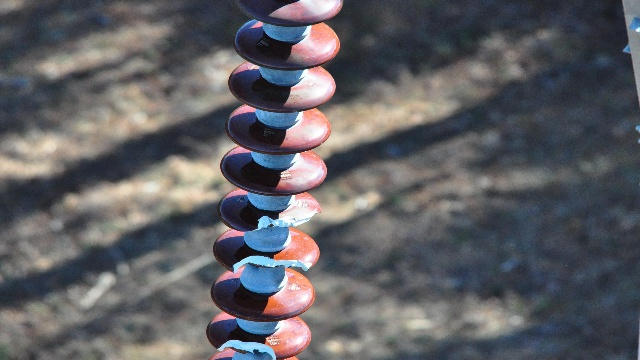broken_local: (226, 253, 311, 275), (249, 210, 325, 233), (215, 337, 285, 359)
insulator_unspecified: (204, 0, 343, 358)
